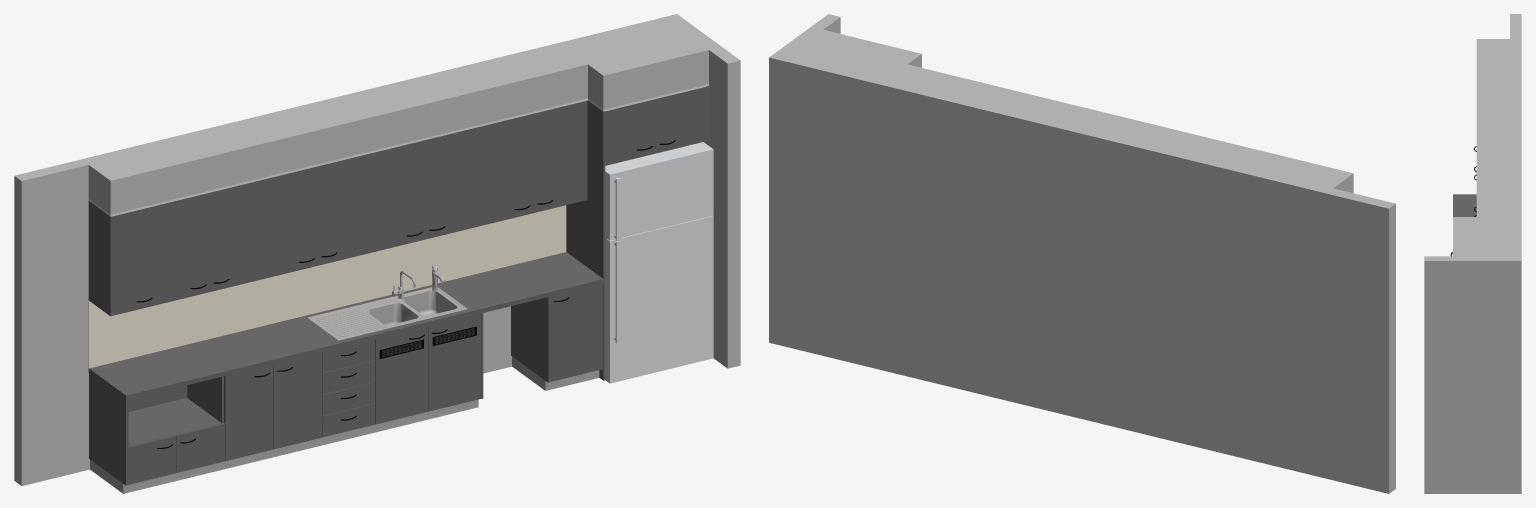
File: au_kitchen.glb
3 views of the same model, side by side, from view 1: azimuth 30°, elevation 25°; view 2: azimuth 150°, elevation 25°; view 3: azimuth 270°, elevation 25° (orthographic). The views are drawn at different scales.
Visible parts, largest first — view 1: Wall, unknown1, Surface0.051, Surface1.050, Surface1.077, Surface1.085, Surface1.105, Surface1.096, Surface1.076, Surface1.097, Surface1.106, Surface1.084 (+27 smaller); view 2: Wall; view 3: Wall, Surface1.050.
Boxes of the visible parts, x1,y1,x2,y2 form: Wall: (14, 14, 740, 485); unknown1: (605, 142, 713, 383); Surface0.051: (89, 205, 566, 368); Surface1.050: (89, 252, 603, 399); Surface1.077: (534, 100, 587, 212); Surface1.085: (372, 140, 425, 252); Surface1.105: (210, 179, 263, 291); Surface1.096: (318, 153, 371, 265); Surface1.076: (480, 113, 533, 225); Surface1.097: (264, 166, 317, 278); Surface1.106: (156, 192, 209, 304); Surface1.084: (426, 127, 479, 239); Wall: (769, 14, 1395, 493); Wall: (1424, 14, 1521, 493); Surface1.050: (1453, 194, 1476, 216).
Size of the model in its own units: 6.14 by 2.7 by 1.02.
Materials: 15 (4 with a texture image).
